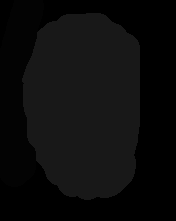fp: (24, 7, 139, 199)
